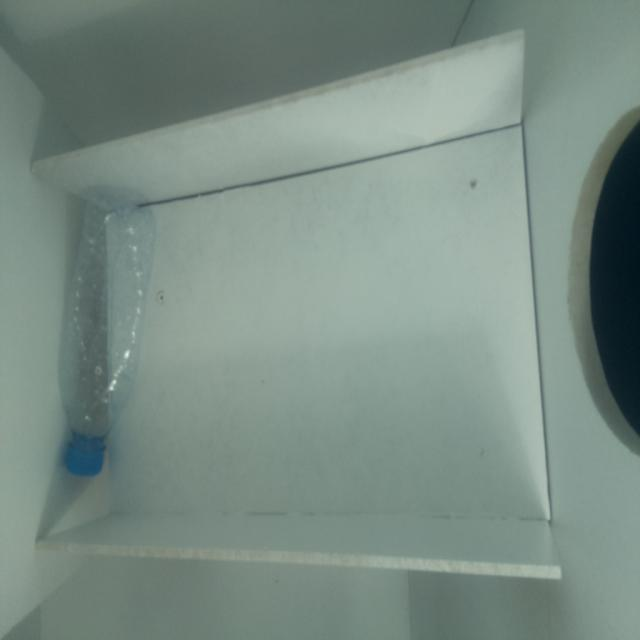Anorganik: (56, 174, 135, 492)
